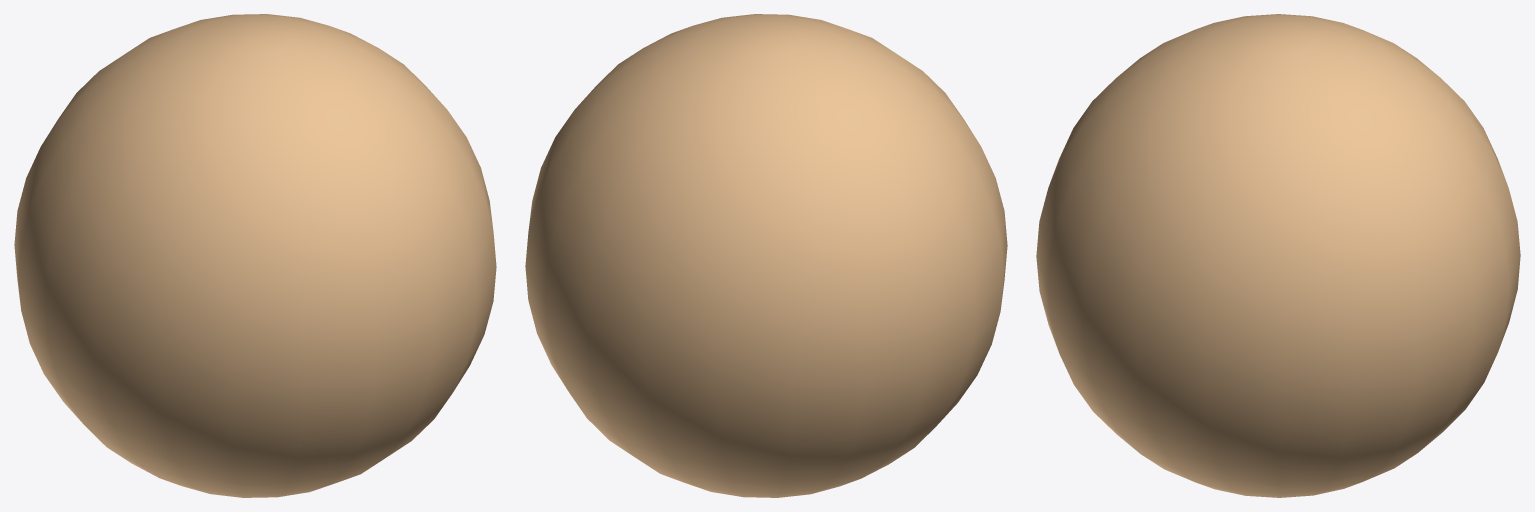
File: Mesh_Explosion.gltf
The picture shows the model from 3 angles, left to right: view 1: azimuth 30°, elevation 25°; view 2: azimuth 150°, elevation 25°; view 3: azimuth 270°, elevation 25°; orthographic projection.
Visible parts, largest first — view 1: Explosion:PIV; view 2: Explosion:PIV; view 3: Explosion:PIV.
Boxes of the visible parts, <box> form: Explosion:PIV: <box>14,14,496,497</box>; Explosion:PIV: <box>525,14,1007,497</box>; Explosion:PIV: <box>1036,14,1520,497</box>.
Bounding box in the file's own units: 2 × 2 × 2.
